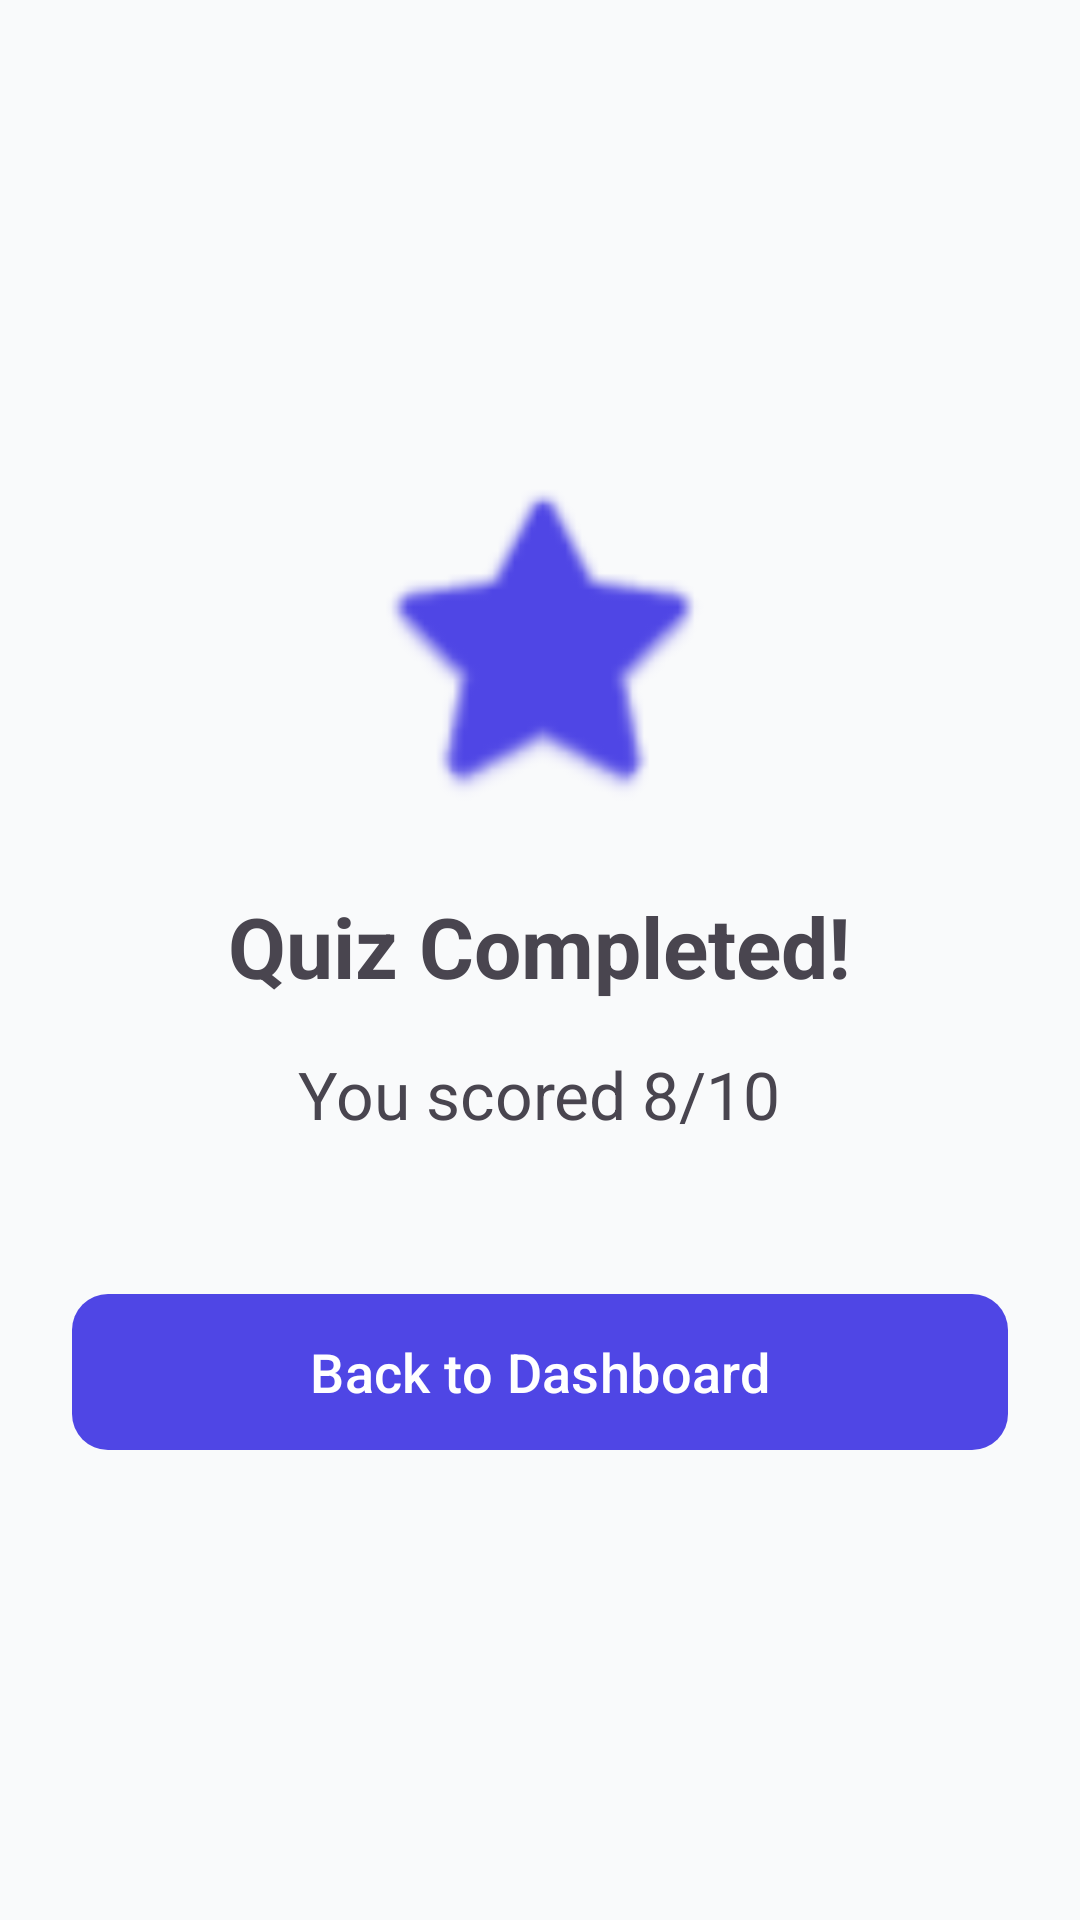

Screen size 1080 x 1920. Icon name, then its center in pixels as (x=x, y=y):
star on: (x=543, y=640)
